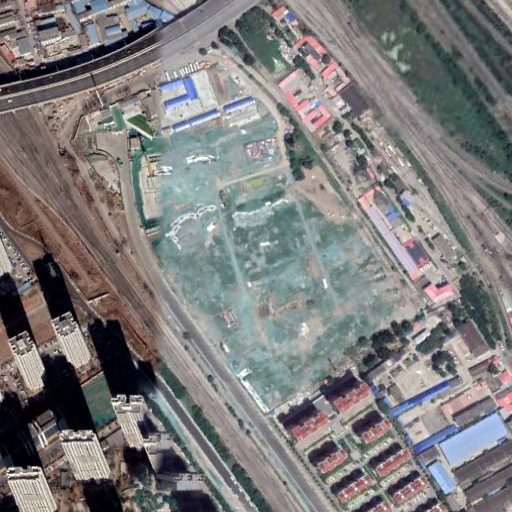cw: (159, 114, 416, 401)
